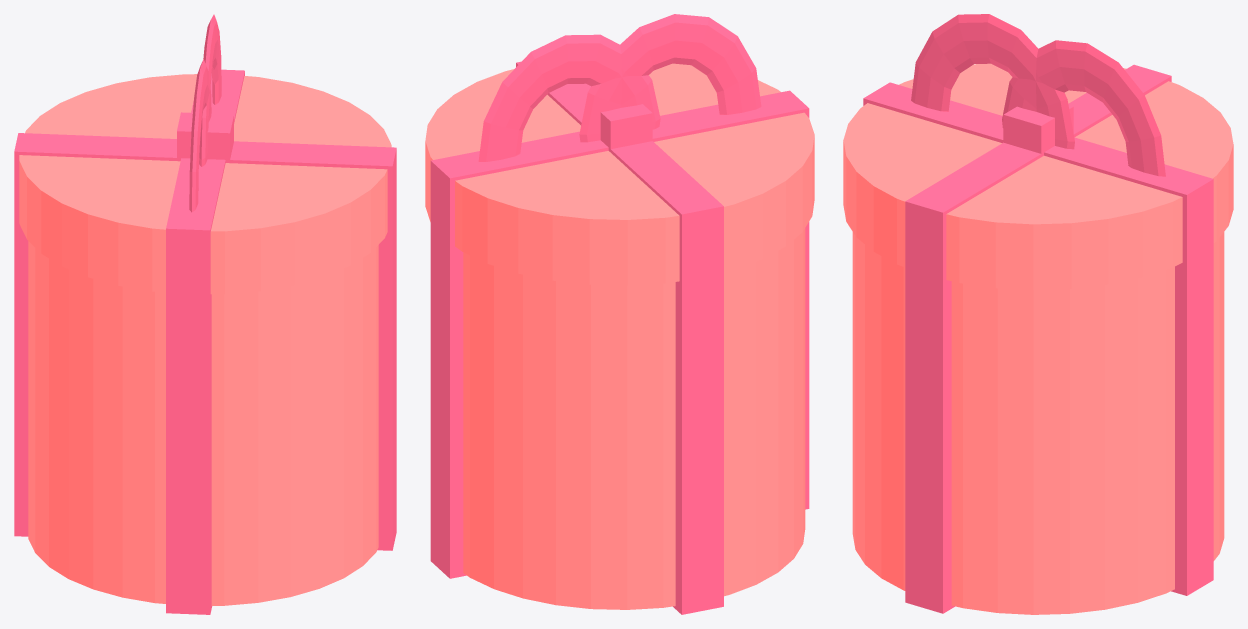
Rendered from Tmpl_Round_Root_241.glb.
The picture shows the model from 3 angles, left to right: view 1: azimuth 30°, elevation 25°; view 2: azimuth 150°, elevation 25°; view 3: azimuth 270°, elevation 25°; orthographic projection. The views are drawn at different scales.
Parts seen in each view (by area): view 1: Tmpl_Round_Base.239, Tmpl_Round_Lid.239, Tmpl_Round_Ribbon_X.239, Tmpl_Round_Ribbon_Y.239, Tmpl_Round_BowKnot.239, Tmpl_Round_BowR.239, Tmpl_Round_BowL.239; view 2: Tmpl_Round_Base.239, Tmpl_Round_Lid.239, Tmpl_Round_Ribbon_Y.239, Tmpl_Round_Ribbon_X.239, Tmpl_Round_BowR.239, Tmpl_Round_BowL.239, Tmpl_Round_BowKnot.239; view 3: Tmpl_Round_Base.239, Tmpl_Round_Lid.239, Tmpl_Round_Ribbon_Y.239, Tmpl_Round_Ribbon_X.239, Tmpl_Round_BowR.239, Tmpl_Round_BowL.239, Tmpl_Round_BowKnot.239.
Boxes of the visible parts, x1,y1,x2,y2 form: Tmpl_Round_Base.239: (28, 241, 378, 605); Tmpl_Round_Lid.239: (19, 74, 391, 294); Tmpl_Round_Ribbon_X.239: (166, 69, 244, 614); Tmpl_Round_Ribbon_Y.239: (14, 133, 396, 550); Tmpl_Round_BowKnot.239: (177, 112, 233, 162); Tmpl_Round_BowR.239: (189, 59, 211, 212); Tmpl_Round_BowL.239: (199, 14, 221, 166); Tmpl_Round_Base.239: (463, 228, 805, 609); Tmpl_Round_Lid.239: (425, 63, 814, 285); Tmpl_Round_Ribbon_Y.239: (516, 61, 723, 614); Tmpl_Round_Ribbon_X.239: (430, 90, 809, 578); Tmpl_Round_BowR.239: (579, 14, 761, 142); Tmpl_Round_BowL.239: (478, 34, 660, 161); Tmpl_Round_BowKnot.239: (600, 104, 652, 151); Tmpl_Round_Base.239: (852, 232, 1224, 614); Tmpl_Round_Lid.239: (843, 63, 1233, 289); Tmpl_Round_Ribbon_Y.239: (905, 64, 1171, 613); Tmpl_Round_Ribbon_X.239: (863, 82, 1213, 595); Tmpl_Round_BowR.239: (911, 14, 1074, 149); Tmpl_Round_BowL.239: (1002, 40, 1165, 176); Tmpl_Round_BowKnot.239: (1003, 105, 1073, 156).
Bounding box in the file's own units: 0.7971 × 1.15 × 0.7971.
